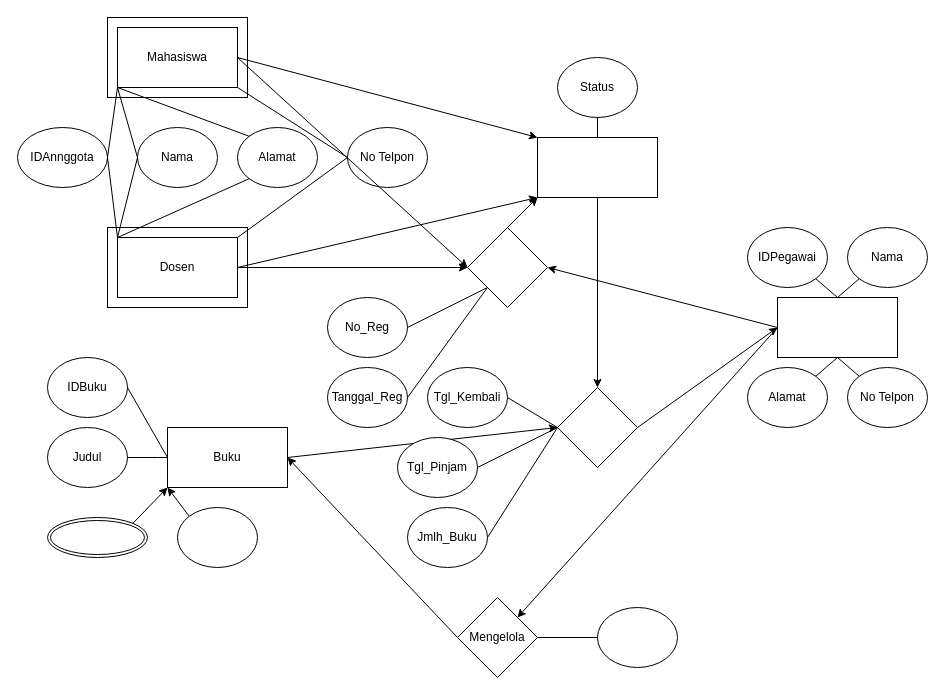
Image size: 945x695. Some labels were removed from this diagram. The shapes that lost their labels are listed below. From the top down, each one's box as (x1, y1, x2, y2) in pixels, then its label:
(536, 136, 658, 198): Anggota
(466, 226, 548, 308): Melayani
(776, 296, 898, 358): Pegawai
(556, 386, 638, 468): Meminjam
(46, 516, 148, 558): Pengarang
(176, 506, 258, 568): Penerbit
(596, 606, 678, 668): Tanggal_Entry
